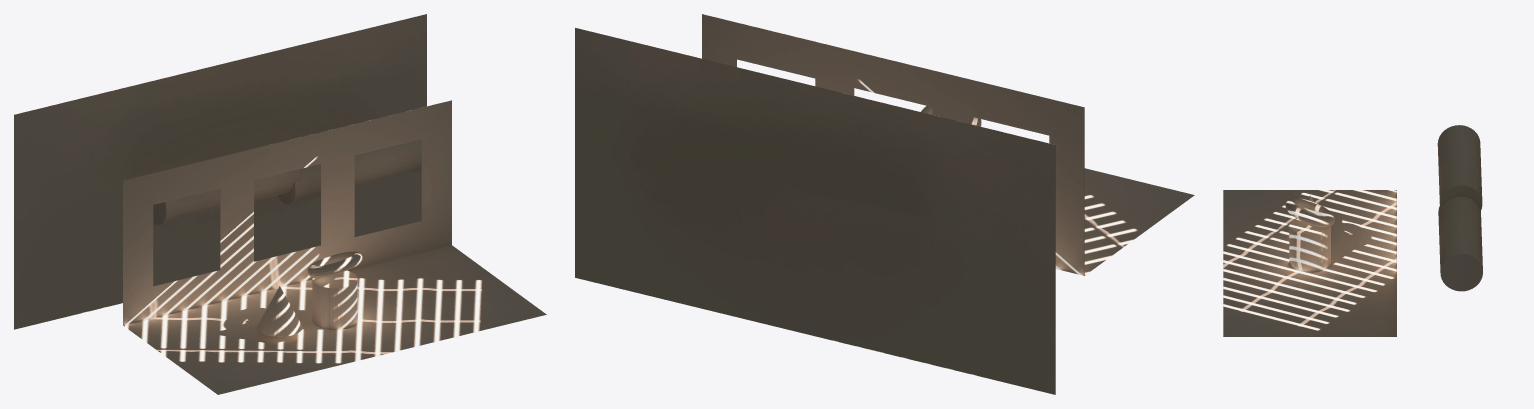
File: hero.glb
3 views of the same model, side by side, from view 1: azimuth 30°, elevation 25°; view 2: azimuth 150°, elevation 25°; view 3: azimuth 270°, elevation 25° (orthographic). The views are drawn at different scales.
Visible parts, largest first — view 1: Plane, Plane.003, cyclinder main, Plane.002, Cone, Torus; view 2: Plane; view 3: Plane, Plane.003, Plane.002, cyclinder main, Torus.
Part boxes in pixels (bbox=[...]): Plane: bbox=[14, 14, 546, 394]; Plane.003: bbox=[277, 139, 421, 204]; cyclinder main: bbox=[312, 270, 357, 329]; Plane.002: bbox=[153, 169, 300, 224]; Cone: bbox=[257, 286, 302, 336]; Torus: bbox=[307, 251, 362, 277]; Plane: bbox=[575, 14, 1194, 394]; Plane: bbox=[1223, 190, 1396, 336]; Plane.003: bbox=[1438, 196, 1482, 291]; Plane.002: bbox=[1437, 125, 1482, 210]; cyclinder main: bbox=[1289, 218, 1330, 272]; Torus: bbox=[1285, 198, 1334, 227].
Size of the model in its own units: 20.89 by 10.39 by 14.19.
6 materials, 6 textured.
